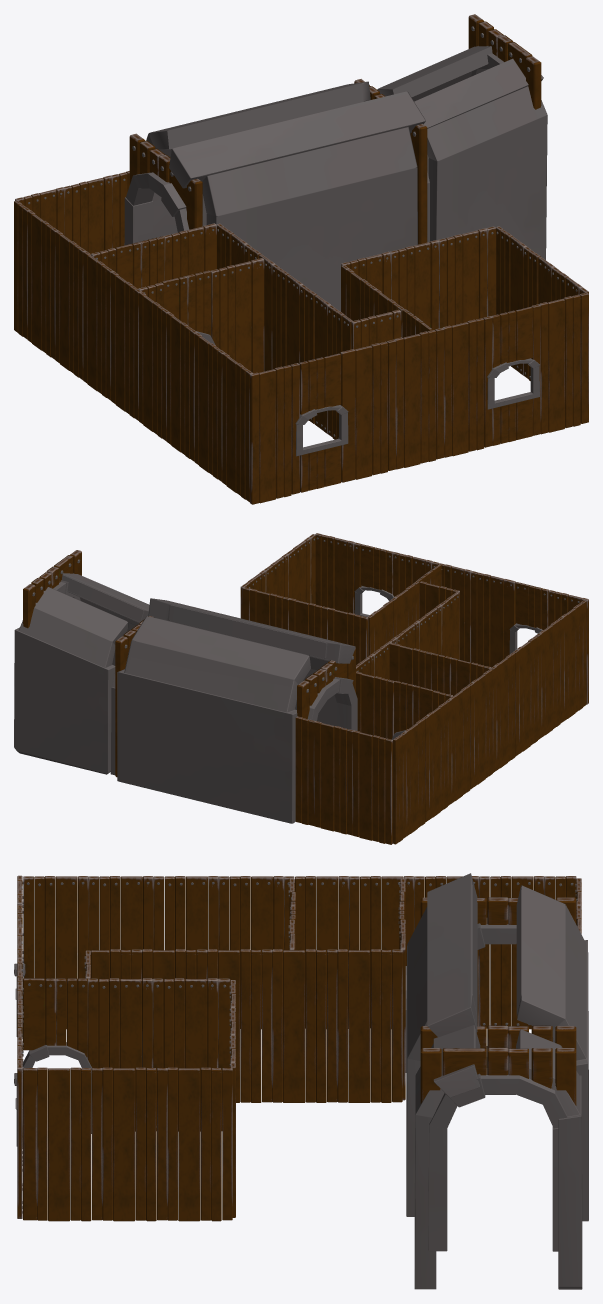
Rendered from walls.fbx.
The picture shows the model from 3 angles, top to bottom: view 1: azimuth 30°, elevation 25°; view 2: azimuth 150°, elevation 25°; view 3: azimuth 270°, elevation 25°; orthographic projection. The views are drawn at different scales.
Visible parts, largest first — view 1: wallsmodel; view 2: wallsmodel; view 3: wallsmodel.
Part boxes in pixels (x1=…): wallsmodel: x1=14, y1=14, x2=588, y2=504; wallsmodel: x1=14, y1=533, x2=588, y2=844; wallsmodel: x1=14, y1=873, x2=588, y2=1289.
Size of the model in its own units: 48.75 by 20.3 by 43.91.
Materials: 1 (1 with a texture image).
